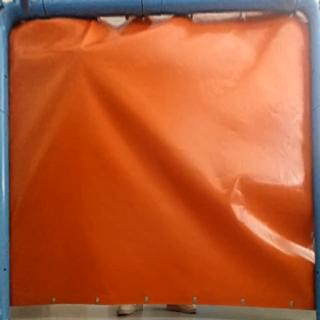Hit-hRxx: (76, 42, 98, 57)
